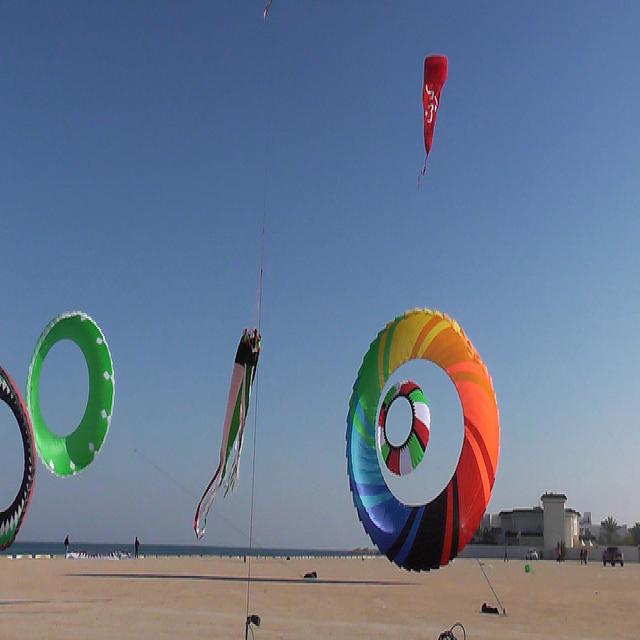Vehicle: (602, 546, 623, 566), (526, 549, 539, 561)
